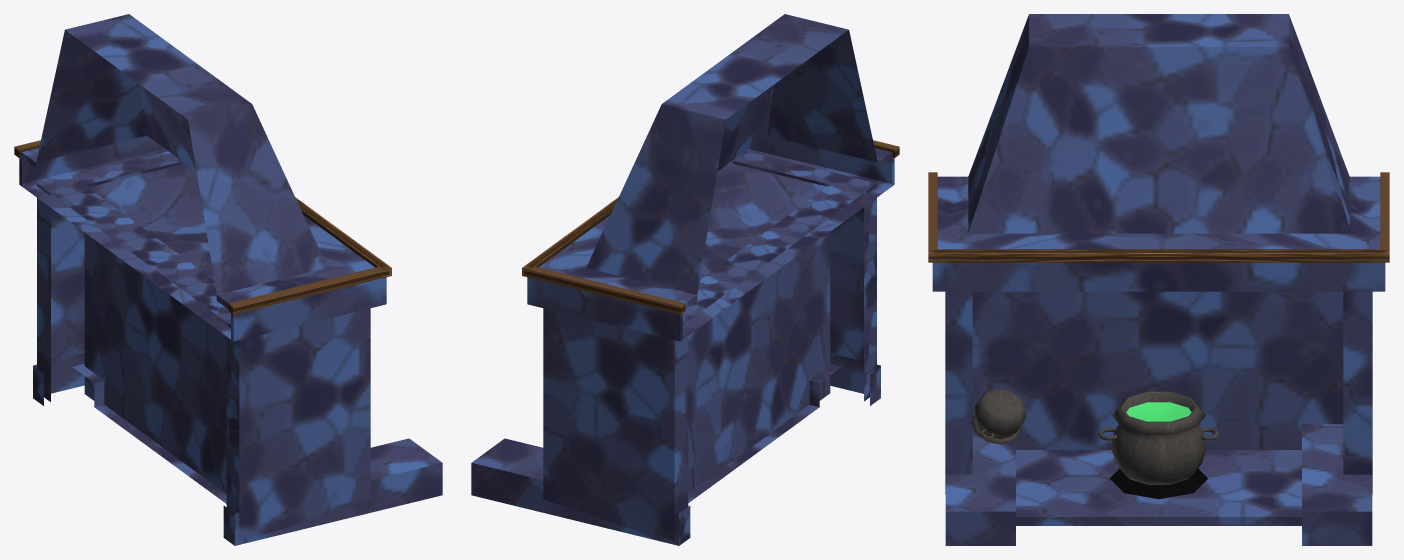
File: Fireplace3LP.fbx
The picture shows the model from 3 angles, left to right: view 1: azimuth 30°, elevation 25°; view 2: azimuth 150°, elevation 25°; view 3: azimuth 270°, elevation 25°; orthographic projection. The views are drawn at different scales.
Parts seen in each view (by area): view 1: fireplace.001; view 2: fireplace.001; view 3: fireplace.001.
Boxes of the visible parts, x1,y1,x2,y2 form: fireplace.001: (14,14,442,545); fireplace.001: (471,14,899,545); fireplace.001: (928,14,1389,545).
Bounding box in the file's own units: 594 × 1041 × 1033.
